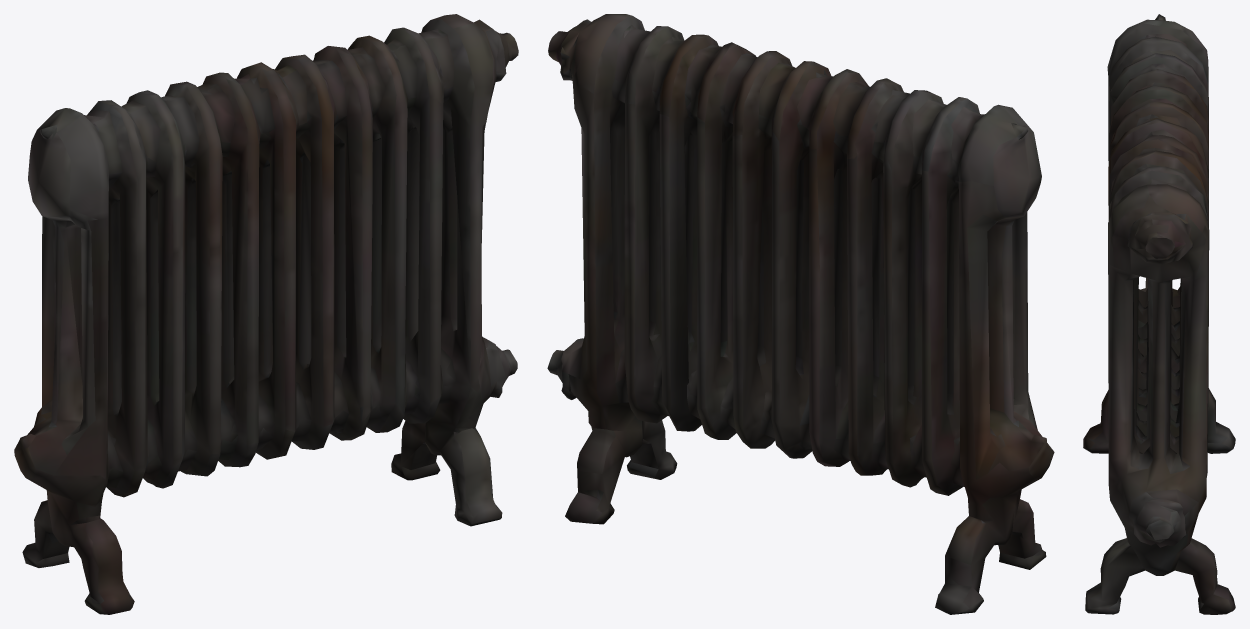
File: weathered-iron-radiator-v002.glb
3 renders of one model, left to right at view 1: azimuth 30°, elevation 25°; view 2: azimuth 150°, elevation 25°; view 3: azimuth 270°, elevation 25°, orthographic. The views are drawn at different scales.
Parts seen in each view (by area): view 1: weathered-iron-radiator; view 2: weathered-iron-radiator; view 3: weathered-iron-radiator.
Part boxes in pixels (left/top/right/bottom): weathered-iron-radiator: left=14, top=14, right=518, bottom=614; weathered-iron-radiator: left=547, top=14, right=1054, bottom=614; weathered-iron-radiator: left=1083, top=14, right=1235, bottom=614.
Size of the model in its own units: 0.7242 by 0.6684 by 0.2176.
1 material, 1 textured.
